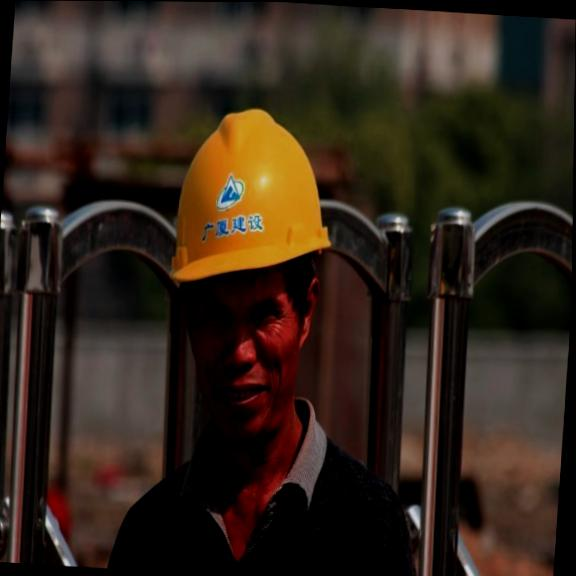no_safety_vest: (113, 416, 422, 576)
